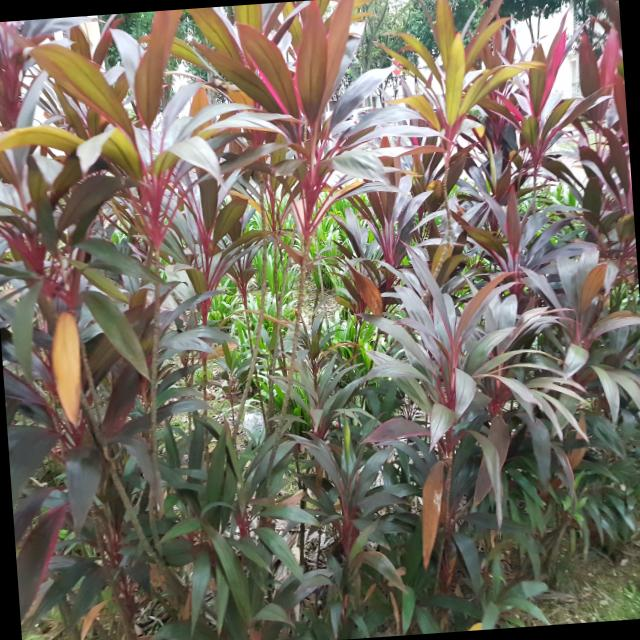Ti: (349, 234, 575, 626), (0, 112, 201, 382), (179, 0, 380, 223)
